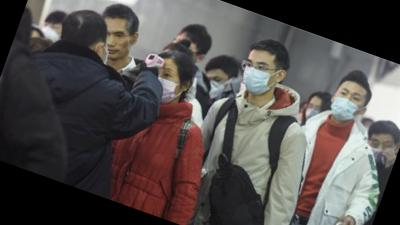with_mask: (234, 55, 279, 102), (145, 61, 186, 110), (326, 85, 368, 127), (361, 134, 396, 170), (199, 71, 230, 104), (300, 98, 326, 127), (37, 20, 64, 46)
without_mask: (97, 25, 134, 66)
